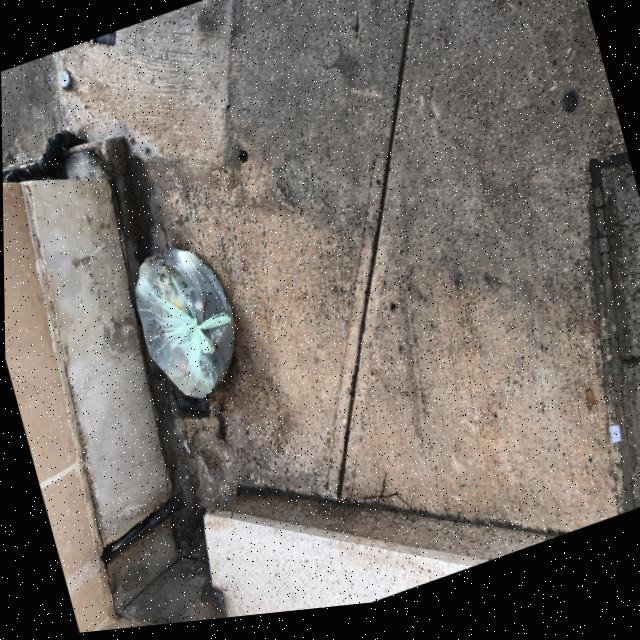Organic Waste -White Bag-: (117, 229, 252, 421)
